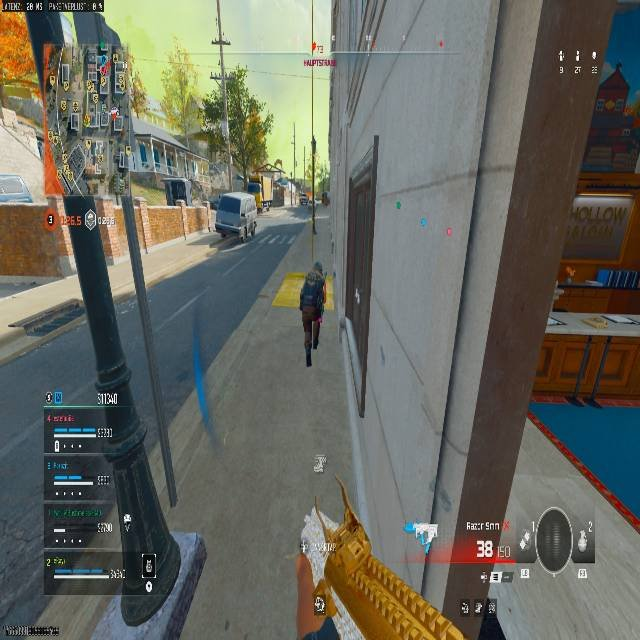head: (309, 261, 323, 276), (313, 260, 323, 272)
player: (299, 260, 332, 367)
